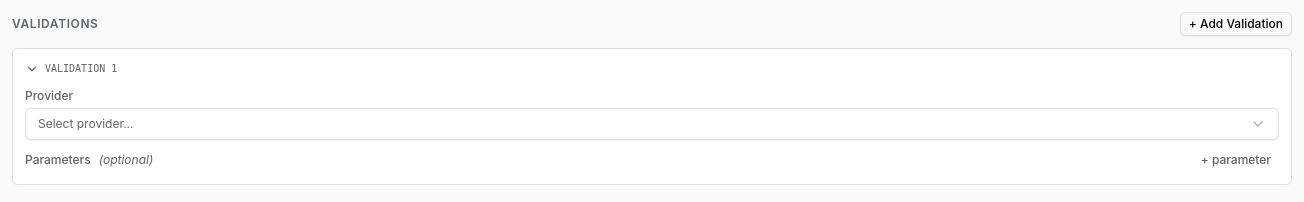
Test: ValidationBuilder › provider selection › offers every provider from the shared registry
This screenshot has width=1304, height=202.
Click the dropdown: [86, 124] box [25,108,1279,140]
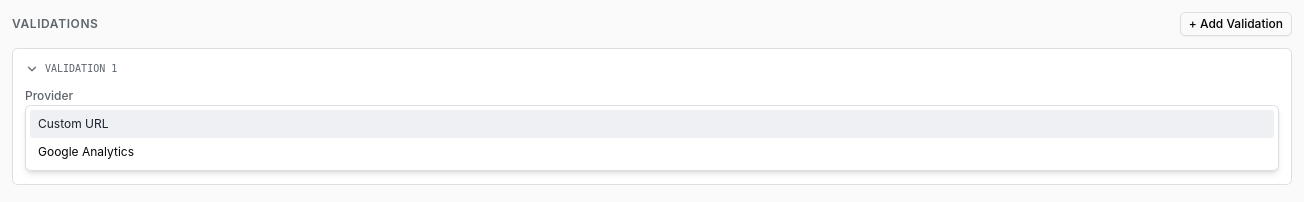
Expected: the number of options is 2, [30,110,1274,138]; [38,144,134,159]
